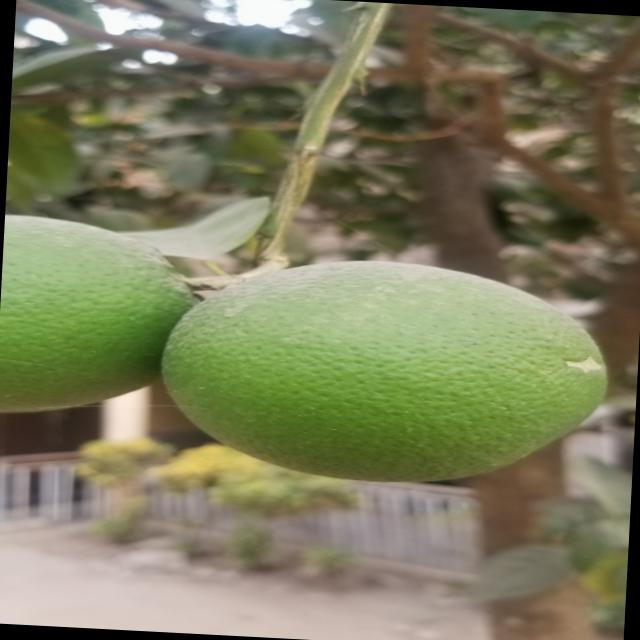Unripe: (155, 247, 594, 493), (0, 214, 194, 424)
